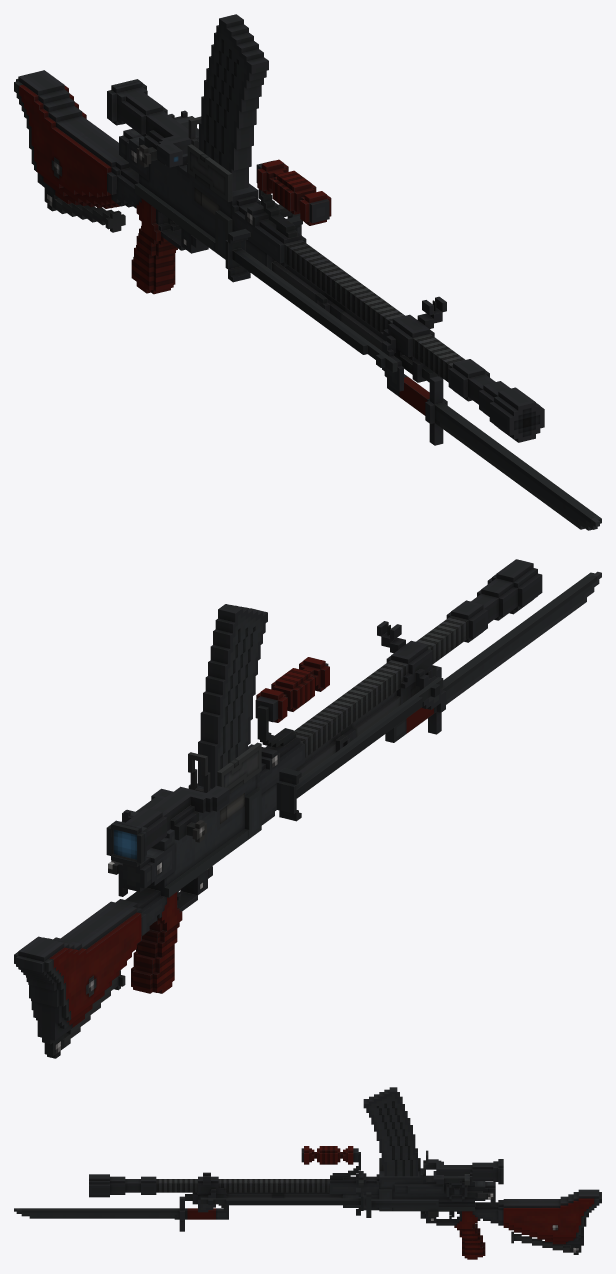
File: RD_TYPE99.glb
3 renders of one model, top to bottom at view 1: azimuth 30°, elevation 25°; view 2: azimuth 150°, elevation 25°; view 3: azimuth 270°, elevation 25°, orthographic. The views are drawn at different scales.
Visible parts, largest first — view 1: TYPE99, TYPE99_CLIP, TYPE99_KNIFE, TYPE99_SCOPE, TYPE99_DIPOD_LEG1; view 2: TYPE99, TYPE99_CLIP, TYPE99_KNIFE, TYPE99_SCOPE, TYPE99_DIPOD_LEG1; view 3: TYPE99, TYPE99_CLIP, TYPE99_KNIFE, TYPE99_DIPOD_LEG2, TYPE99_SCOPE, TYPE99_BOLT.
Boxes of the visible parts, x1=… form: TYPE99: x1=14, y1=70, x2=544, y2=442; TYPE99_CLIP: x1=199, y1=14, x2=268, y2=191; TYPE99_KNIFE: x1=387, y1=374, x2=601, y2=530; TYPE99_SCOPE: x1=107, y1=79, x2=198, y2=167; TYPE99_DIPOD_LEG1: x1=225, y1=229, x2=397, y2=372; TYPE99: x1=14, y1=559, x2=542, y2=1058; TYPE99_CLIP: x1=198, y1=604, x2=267, y2=788; TYPE99_KNIFE: x1=385, y1=571, x2=601, y2=742; TYPE99_SCOPE: x1=106, y1=786, x2=229, y2=866; TYPE99_DIPOD_LEG1: x1=276, y1=677, x2=443, y2=821; TYPE99: x1=89, y1=1146, x2=601, y2=1259; TYPE99_CLIP: x1=363, y1=1087, x2=417, y2=1176; TYPE99_KNIFE: x1=14, y1=1196, x2=228, y2=1231; TYPE99_DIPOD_LEG2: x1=200, y1=1188, x2=363, y2=1215; TYPE99_SCOPE: x1=426, y1=1159, x2=503, y2=1184; TYPE99_BOLT: x1=366, y1=1192, x2=438, y2=1217.
Bounding box in the file's own units: 0.1772 × 0.6988 × 2.23.
1 material, 1 textured.
